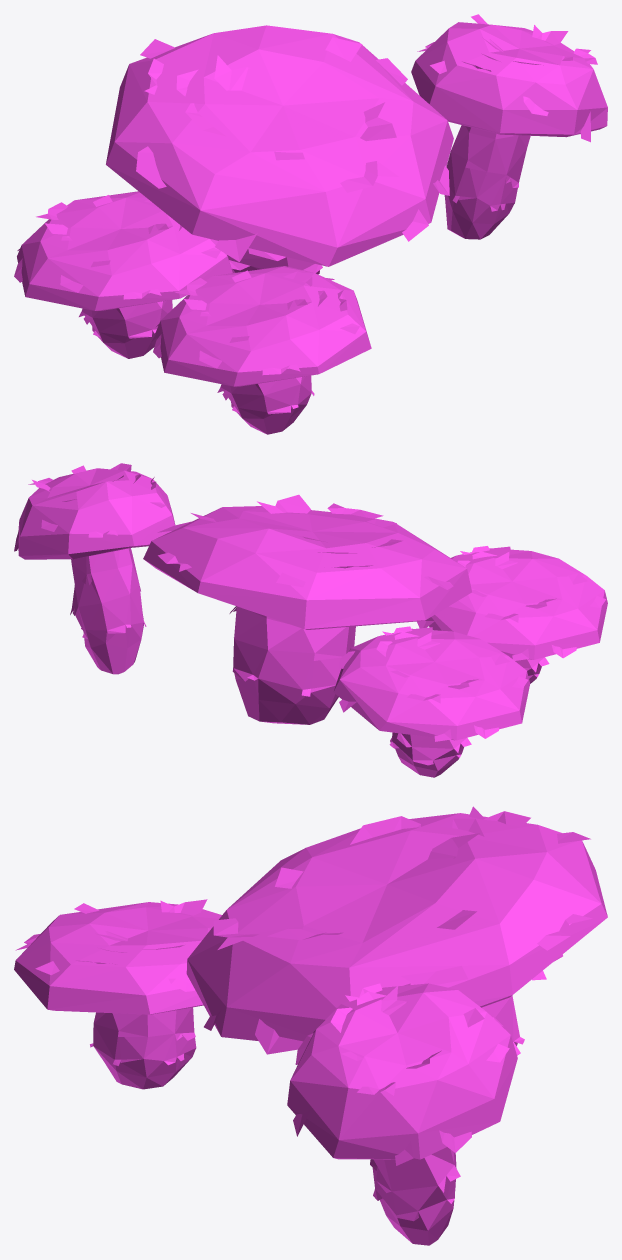
The model's file is SM_Mushroom_Fluffy_Big_Claster_B_Fantasy.fbx.
3 views of the same model, one above another, from view 1: azimuth 30°, elevation 25°; view 2: azimuth 150°, elevation 25°; view 3: azimuth 270°, elevation 25° (orthographic). The views are drawn at different scales.
Parts seen in each view (by area): view 1: SM_Mushroom_Fluffy_Big_Claster_B_Fantasy; view 2: SM_Mushroom_Fluffy_Big_Claster_B_Fantasy; view 3: SM_Mushroom_Fluffy_Big_Claster_B_Fantasy.
Part boxes in pixels (x1,y1,x2,y2): SM_Mushroom_Fluffy_Big_Claster_B_Fantasy: [14, 14, 607, 434]; SM_Mushroom_Fluffy_Big_Claster_B_Fantasy: [14, 463, 607, 777]; SM_Mushroom_Fluffy_Big_Claster_B_Fantasy: [14, 806, 607, 1245].
Bounding box in the file's own units: 2.7 × 1.16 × 2.05.
